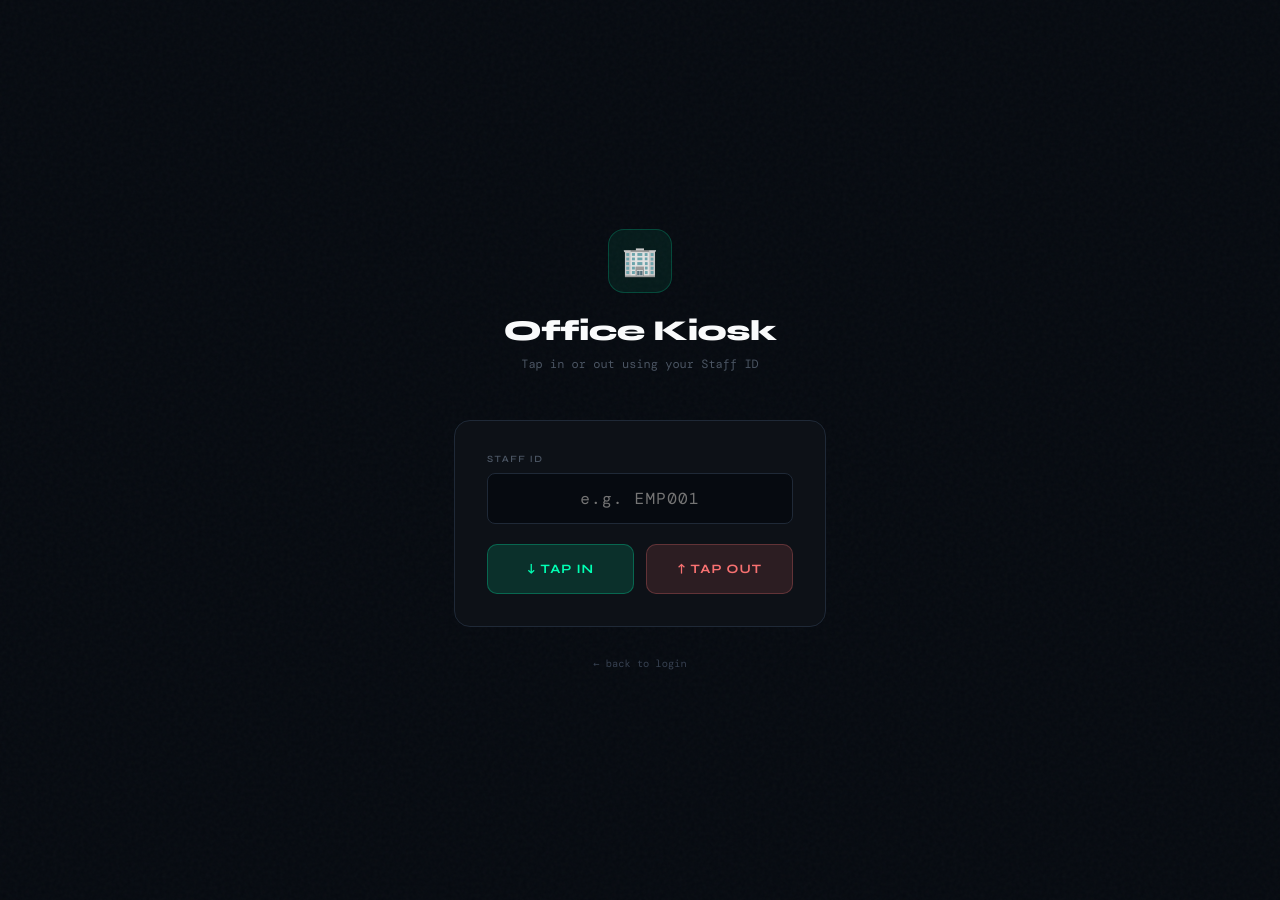
Test: TapScreen › shows an error when tap submission fails
Type "EMP001" into the field with placeholder "e.g. EMP001" at (640, 498), box 487,472 -> 793,524
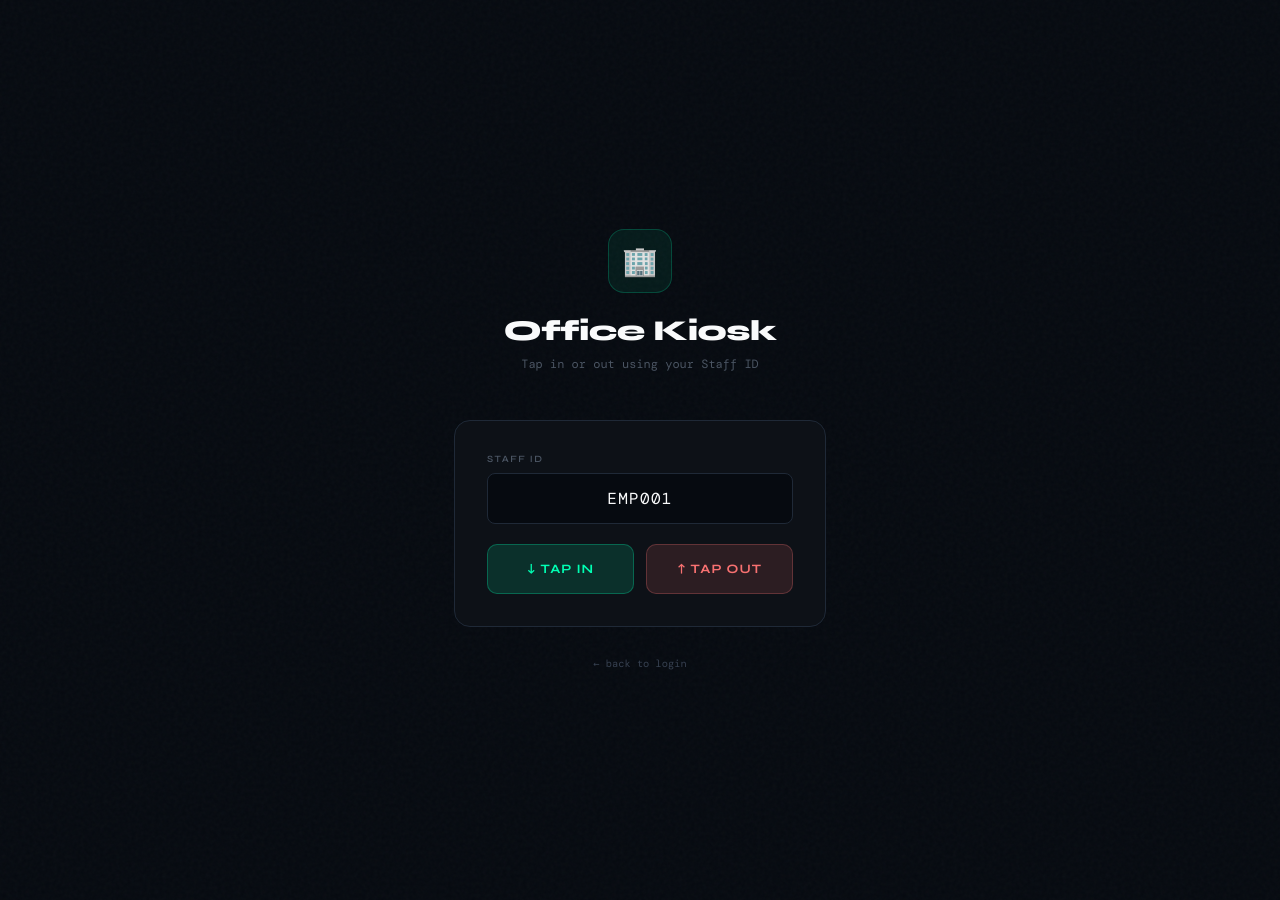
Click the button "↑ Tap Out" at (720, 568), box 646,544 -> 793,594
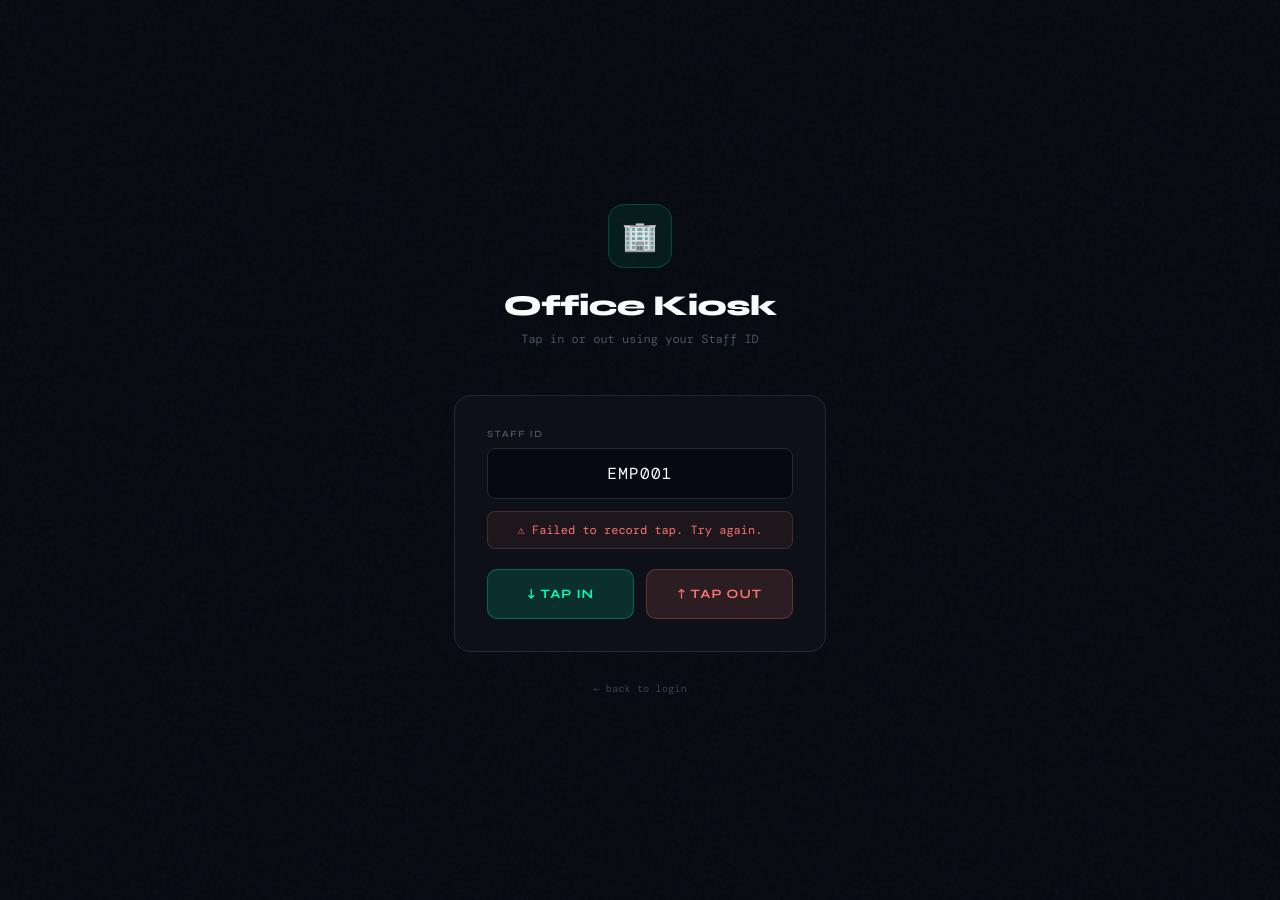
Expected: the text "⚠ Failed to record tap. Try again." is shown, 487,510 -> 793,548
